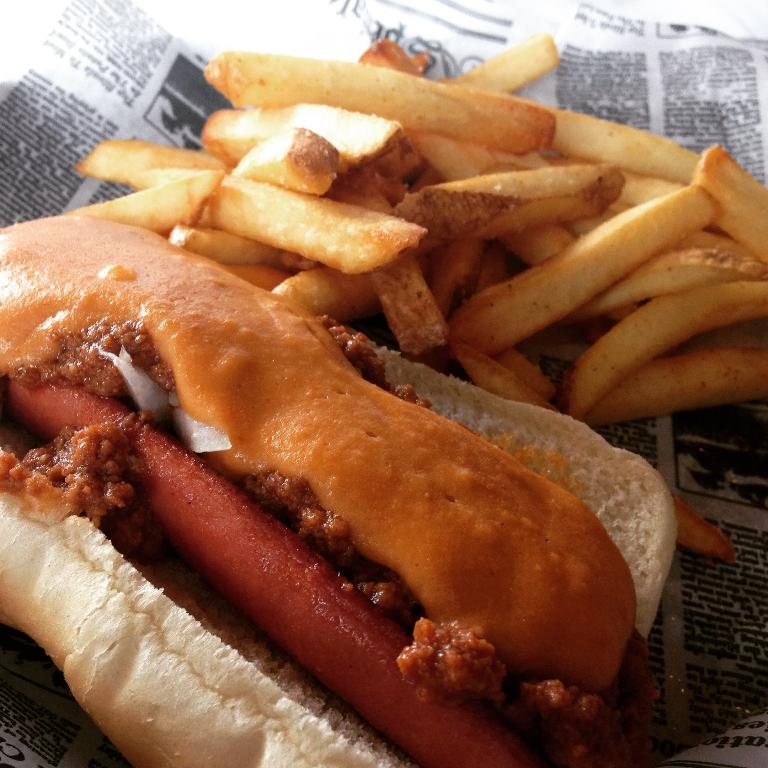French fries: (197, 79, 746, 442)
